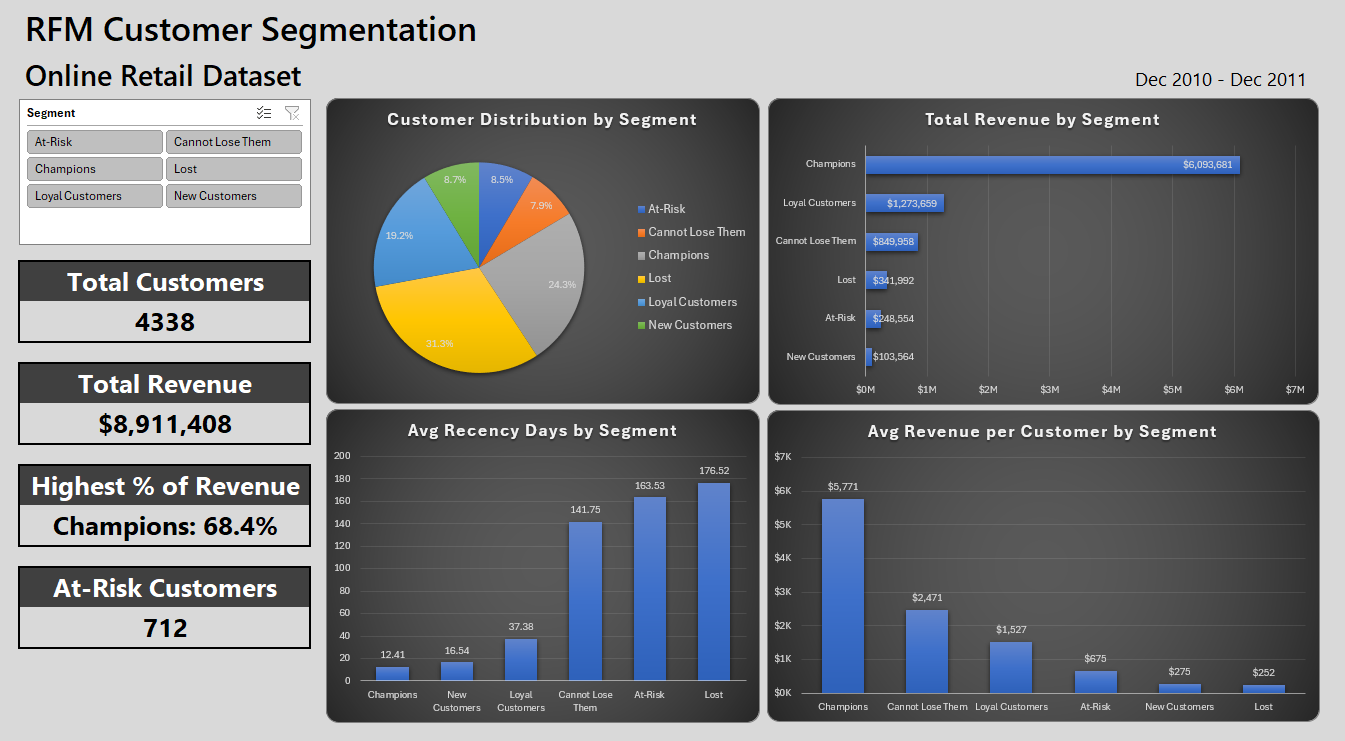

The page's visual inventory and layout, read from the dashboard file:
{"tool":"powerbi","page":{"name":"RFM Analysis","canvas":[1280,720],"ordinal":1},"visuals":[{"type":"shape","box":[0,0,1280,124],"z":0},{"type":"cardVisual","fields":{"Data":["_Measures.Total Customers"]},"box":[5.5,71.8,309.1,119.1],"z":1000},{"type":"cardVisual","fields":{"Data":["_Measures.High Risk Customers"]},"box":[646.4,71.8,308.6,118.8],"z":2000},{"type":"cardVisual","fields":{"Data":["_Measures.Top Segment Revenue %"]},"box":[963.6,71.8,310,119.1],"z":3000},{"type":"textbox","box":[5.3,12.4,627.8,58.5],"z":4000},{"type":"slicer","fields":{"Values":["rfm_output.Segment"]},"box":[961.2,5.3,313.9,62.1],"z":5000},{"type":"cardVisual","fields":{"Data":["_Measures.Total Revenue"]},"box":[323.6,71.8,309.1,119.1],"z":6000},{"type":"image","box":[527.3,100,86.4,60.9],"z":7000},{"type":"image","box":[206.4,100,86.4,60.9],"z":8000},{"type":"image","box":[847.7,96.7,86,69.2],"z":9000},{"type":"donutChart","fields":{"Category":["rfm_output.segment"],"Y":["_Measures.Total Customers"]},"box":[5.5,200.9,627.3,249.1],"z":11000},{"type":"columnChart","fields":{"Category":["rfm_output.segment"],"Y":["_Measures.Total Revenue"]},"box":[646.4,200.9,628.2,249.1],"z":12000},{"type":"columnChart","fields":{"Category":["rfm_output.segment"],"Y":["_Measures.Avg Recency Days"]},"box":[5,460,627,249],"z":13000},{"type":"columnChart","fields":{"Category":["rfm_output.segment"],"Y":["_Measures.Avg Revenue"]},"box":[646.4,460,627.3,249.1],"z":14000}]}

Visuals, with their boxes in screenshot pixels (x1, y1, x2, y2), scaled from the page's 1280x720 canvas onto the 1345x741 screenshot:
shape: l=0, t=0, r=1344, b=128
cardVisual - _Measures.Total Customers: l=6, t=74, r=331, b=196
cardVisual - _Measures.High Risk Customers: l=679, t=74, r=1003, b=196
cardVisual - _Measures.Top Segment Revenue %: l=1013, t=74, r=1338, b=196
textbox: l=6, t=13, r=665, b=73
slicer - rfm_output.Segment: l=1010, t=5, r=1340, b=69
cardVisual - _Measures.Total Revenue: l=340, t=74, r=665, b=196
image: l=554, t=103, r=645, b=166
image: l=217, t=103, r=308, b=166
image: l=891, t=100, r=981, b=171
donutChart - rfm_output.segment x _Measures.Total Customers: l=6, t=207, r=665, b=463
columnChart - rfm_output.segment x _Measures.Total Revenue: l=679, t=207, r=1339, b=463
columnChart - rfm_output.segment x _Measures.Avg Recency Days: l=5, t=473, r=664, b=730
columnChart - rfm_output.segment x _Measures.Avg Revenue: l=679, t=473, r=1338, b=730
